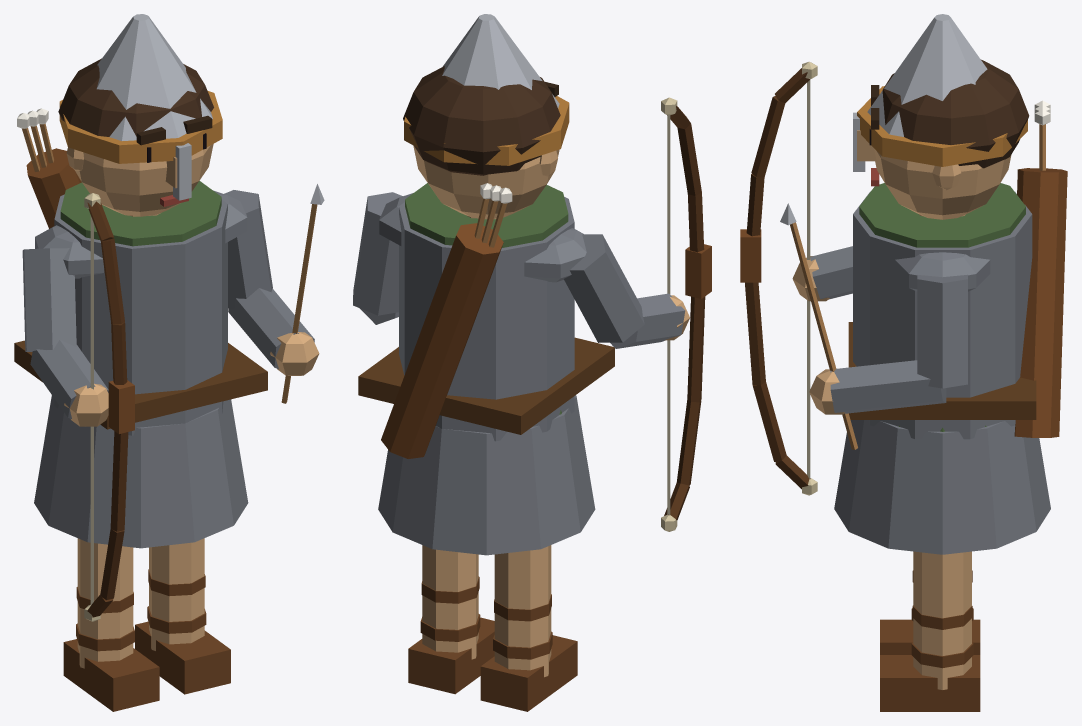
File: lucznik.glb
3 renders of one model, left to right at view 1: azimuth 30°, elevation 25°; view 2: azimuth 150°, elevation 25°; view 3: azimuth 270°, elevation 25°, orthographic.
Visible parts, largest first — view 1: cialo, glowa, reka_l, noga_p, noga_l, reka_p, cieciwa_luku; view 2: cialo, glowa, reka_l, noga_l, noga_p, reka_p, cieciwa_luku; view 3: cialo, glowa, reka_p, noga_p, reka_l, noga_l, cieciwa_luku.
Part boxes in pixels (box(x1,y1,x2,y2)): cialo: box(14, 108, 267, 548); glowa: box(58, 14, 222, 216); reka_l: box(22, 193, 134, 621); noga_p: box(135, 538, 230, 694); noga_l: box(63, 538, 159, 711); reka_p: box(224, 184, 324, 403); cieciwa_luku: box(90, 215, 93, 604); cialo: box(358, 183, 614, 555); glowa: box(403, 14, 569, 219); reka_l: box(564, 97, 711, 531); noga_l: box(480, 545, 577, 711); noga_p: box(408, 545, 494, 694); reka_p: box(353, 192, 402, 324); cieciwa_luku: box(667, 115, 670, 515); cialo: box(834, 100, 1067, 554); glowa: box(853, 14, 1029, 219); reka_p: box(780, 203, 967, 449); noga_p: box(880, 551, 980, 711); reka_l: box(740, 61, 852, 495); noga_l: box(880, 570, 980, 654); cieciwa_luku: box(807, 80, 810, 479).
Bounding box in the file's own units: 0.7474 × 1.76 × 0.7848.
